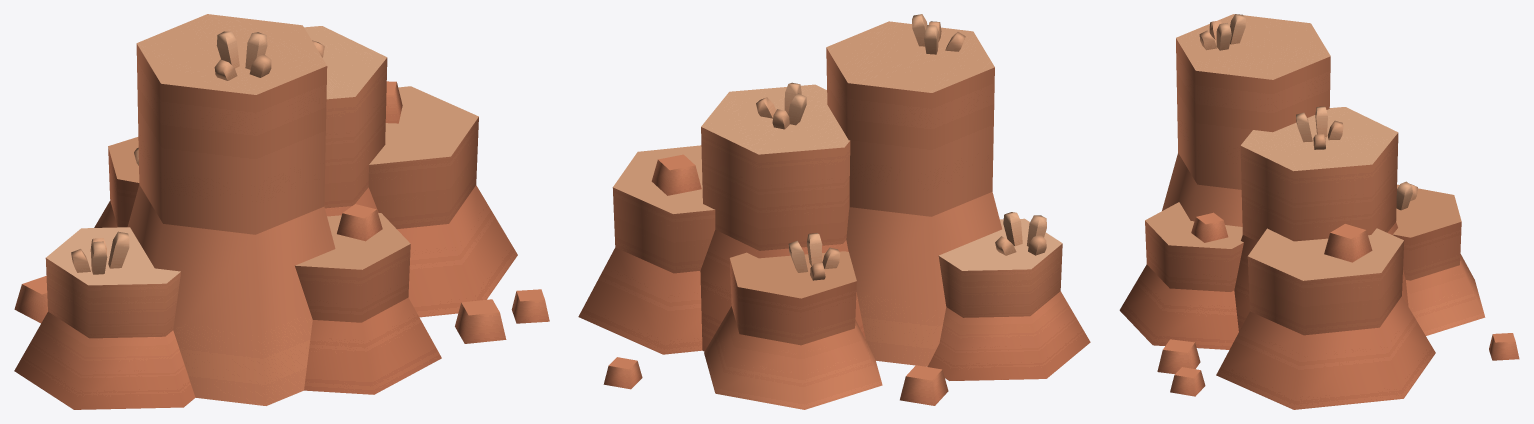
File: rocks-sand-a.glb
The picture shows the model from 3 angles, left to right: view 1: azimuth 30°, elevation 25°; view 2: azimuth 150°, elevation 25°; view 3: azimuth 270°, elevation 25°; orthographic projection. The views are drawn at different scales.
Parts seen in each view (by area): view 1: rocks-sand-a; view 2: rocks-sand-a; view 3: rocks-sand-a.
Boxes of the visible parts, x1,y1,x2,y2 form: rocks-sand-a: [14, 14, 549, 409]; rocks-sand-a: [578, 14, 1090, 409]; rocks-sand-a: [1119, 14, 1519, 409].
Size of the model in its own units: 5.11 by 3.21 by 4.39.
1 material, 1 textured.
